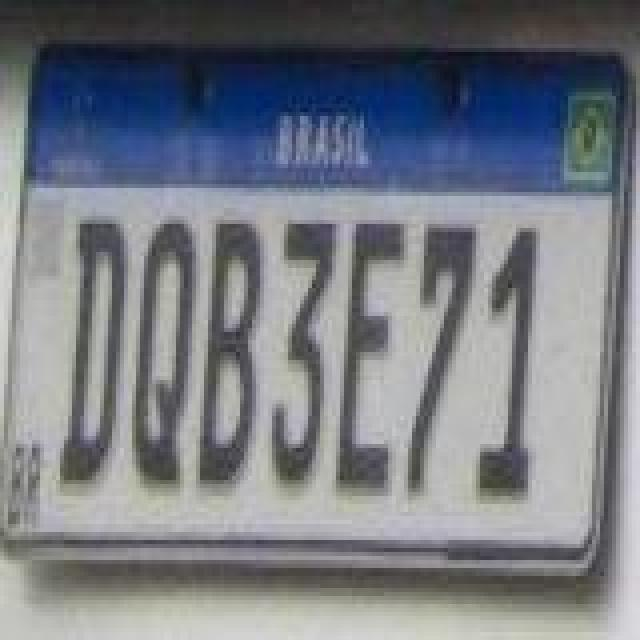1: (480, 224, 544, 496)
3: (270, 216, 338, 488)
7: (404, 226, 476, 494)
B: (198, 216, 266, 488)
D: (62, 216, 130, 488)
E: (332, 218, 404, 494)
Q: (130, 218, 198, 486)
